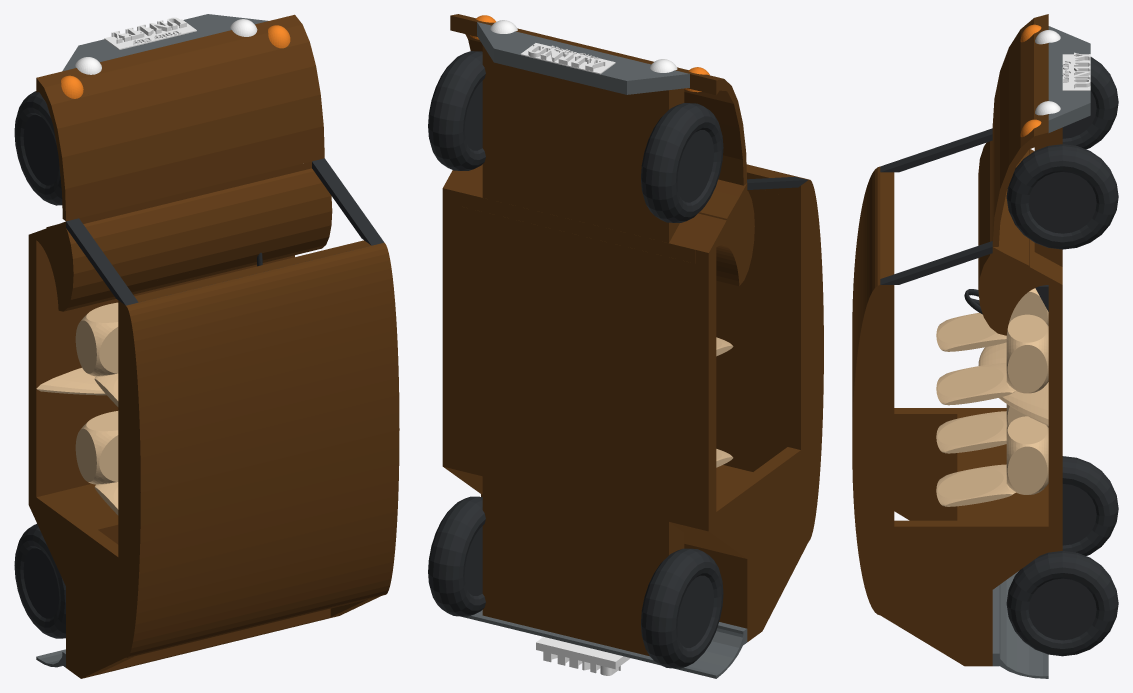
File: tinker.obj
3 renders of one model, left to right at view 1: azimuth 30°, elevation 25°; view 2: azimuth 150°, elevation 25°; view 3: azimuth 270°, elevation 25°, orthographic. The views are drawn at different scales.
Parts seen in each view (by area): view 1: group_0_6306067, group_0_2829873, group_0_14860437, group_0_6383466, group_0_16448250, group_0_16089887; view 2: group_0_6306067, group_0_2829873, group_0_6383466, group_0_16448250; view 3: group_0_6306067, group_0_2829873, group_0_14860437, group_0_6383466, group_0_16448250, group_0_16089887.
Boxes of the visible parts, bbox=[...] form: group_0_6306067: bbox=[28, 14, 399, 678]; group_0_2829873: bbox=[14, 91, 384, 638]; group_0_14860437: bbox=[36, 302, 118, 515]; group_0_6383466: bbox=[36, 14, 267, 667]; group_0_16448250: bbox=[75, 17, 257, 74]; group_0_16089887: bbox=[61, 25, 290, 98]; group_0_6306067: bbox=[442, 14, 823, 656]; group_0_2829873: bbox=[428, 51, 807, 668]; group_0_6383466: bbox=[460, 22, 747, 678]; group_0_16448250: bbox=[490, 20, 677, 675]; group_0_6306067: bbox=[852, 14, 1062, 666]; group_0_2829873: bbox=[880, 57, 1118, 656]; group_0_14860437: bbox=[936, 288, 1048, 506]; group_0_6383466: bbox=[992, 26, 1090, 678]; group_0_16448250: bbox=[1035, 30, 1090, 115]; group_0_16089887: bbox=[1020, 24, 1041, 137].
Size of the model in its own units: 20 by 44.67 by 19.
